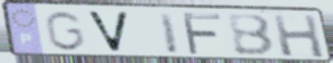B: (225, 13, 277, 57)
F: (179, 11, 225, 56)
G: (43, 10, 88, 53)
H: (270, 13, 327, 59)
I: (157, 11, 182, 55)
V: (84, 10, 131, 55)
